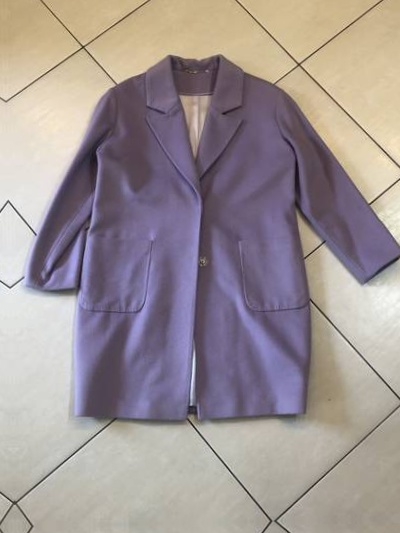Blazer: (18, 28, 400, 441)
